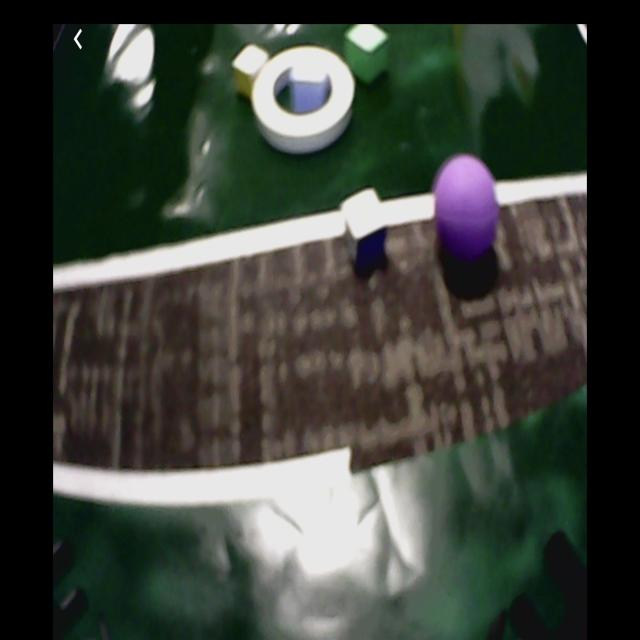ball: (436, 157, 498, 256)
